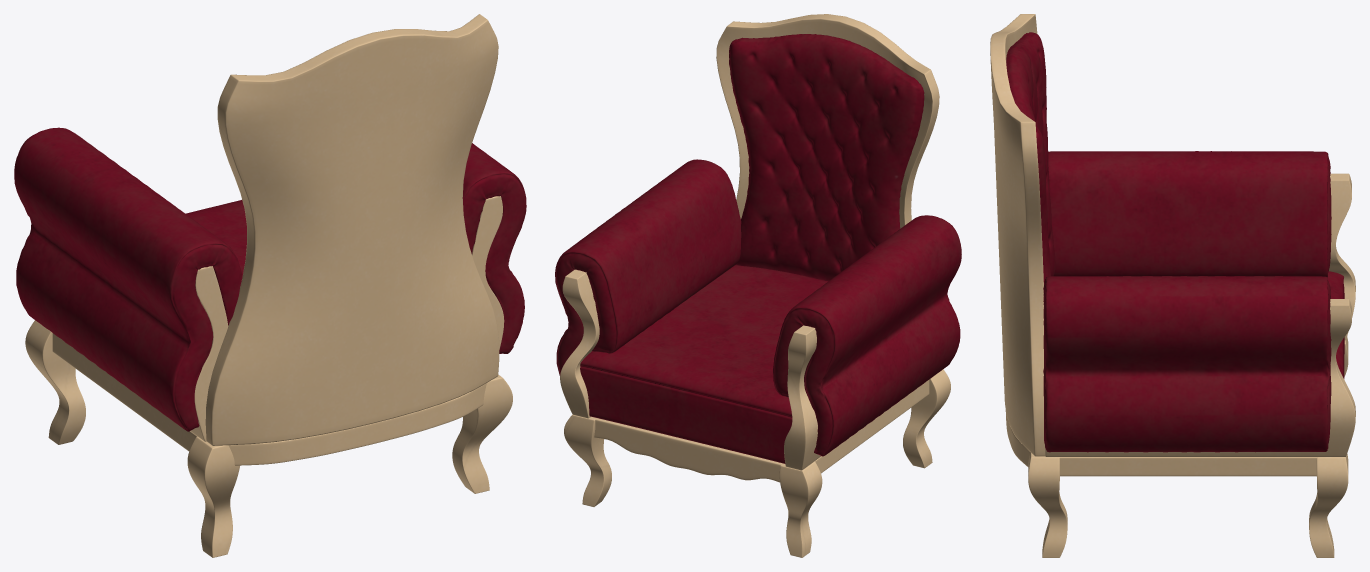
File: Chair50.fbx
3 renders of one model, left to right at view 1: azimuth 30°, elevation 25°; view 2: azimuth 150°, elevation 25°; view 3: azimuth 270°, elevation 25°, orthographic. The views are drawn at different scales.
Visible parts, largest first — view 1: Chair50; view 2: Chair50; view 3: Chair50.
Part boxes in pixels (x1=…): Chair50: x1=14, y1=14, x2=526, y2=557; Chair50: x1=555, y1=14, x2=961, y2=557; Chair50: x1=990, y1=14, x2=1355, y2=557.
Bounding box in the file's own units: 94.52 × 128 × 94.08.
